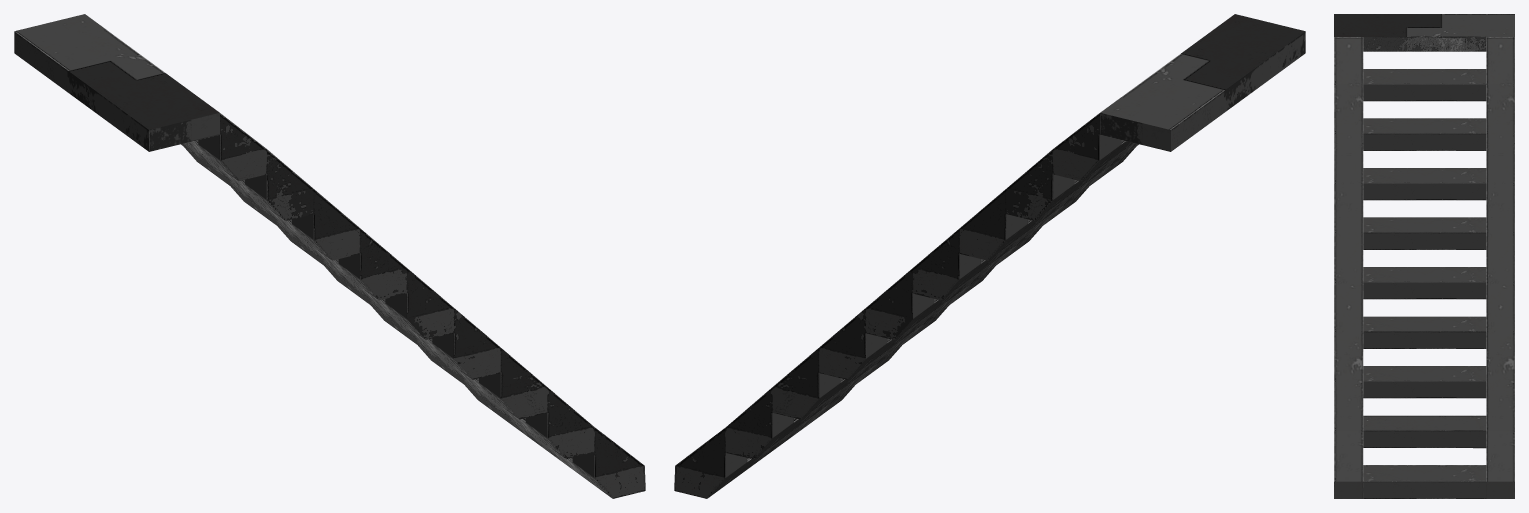
Rendered from Stairs2.fbx.
3 renders of one model, left to right at view 1: azimuth 30°, elevation 25°; view 2: azimuth 150°, elevation 25°; view 3: azimuth 270°, elevation 25°, orthographic. The views are drawn at different scales.
Parts seen in each view (by area): view 1: pCube3; view 2: pCube3; view 3: pCube3.
Part boxes in pixels (x1,y1,x2,y2): pCube3: (14, 14, 645, 498); pCube3: (674, 14, 1305, 498); pCube3: (1334, 14, 1514, 498).
Bounding box in the file's own units: 901 × 835 × 424.
